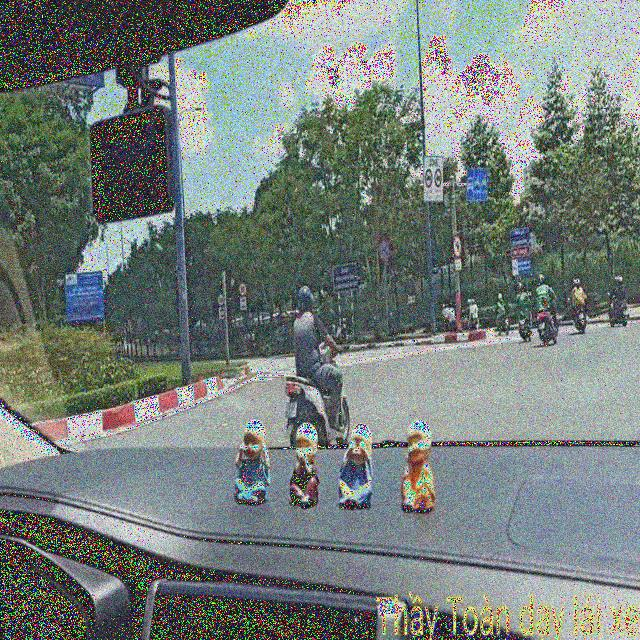Biển phụ: (238, 295, 247, 308), (453, 258, 461, 267), (218, 308, 224, 318)
Cấm các phương tiện hoạt động trong khung giờ cố định: (419, 146, 444, 204)
Cấm dừng - Cấm đỗ: (377, 234, 390, 262)
Cấm xe máy: (450, 232, 464, 255)
Giới hạn tốc độ: 60Km/h: (216, 289, 226, 309)
Giới hạn tốc độ: 80Km/h: (237, 278, 248, 295)
Khác: (61, 269, 108, 328), (509, 225, 533, 277), (330, 258, 358, 292)
Làn đường cho từng xe: (464, 164, 487, 202)
